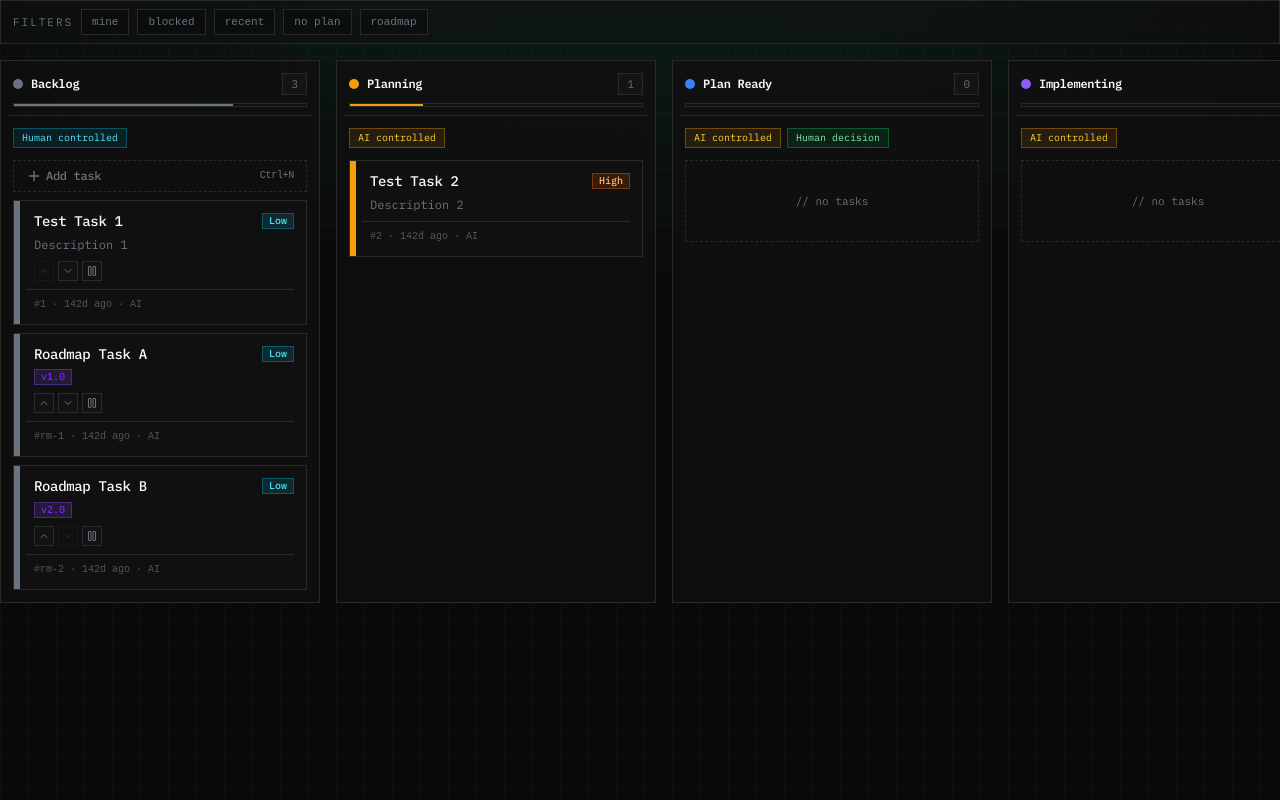
Test: Board › should show roadmap alias sub-filters when roadmap filter is active
The width and height of the screenshot is (1280, 800).
# Activate roadmap filter
Click the button "roadmap" at (394, 22), box [360,9,428,35]
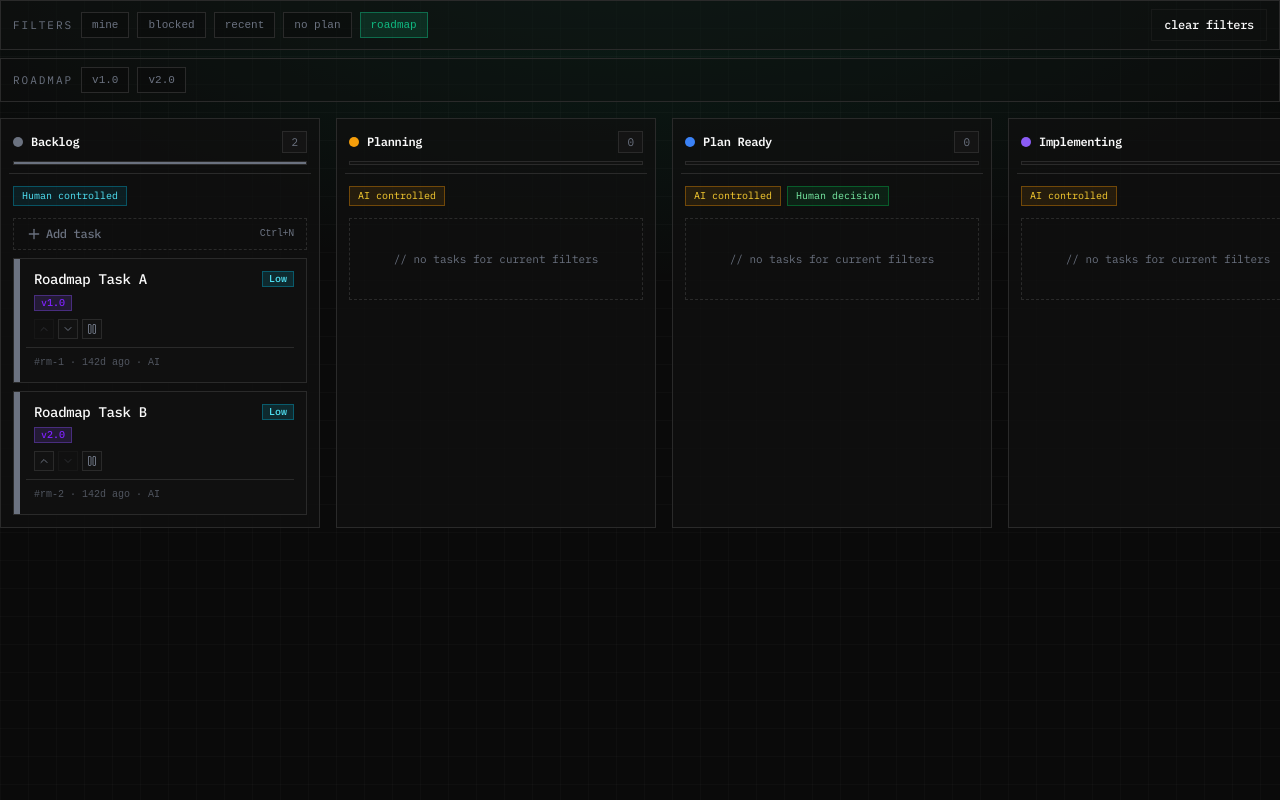
Expected: the text "Roadmap Task A" is shown, [26,271,147,288]
Expected: the button "v1.0" is shown
Expected: the button "v2.0" is shown, [138,67,186,93]
# Click v1.0 alias — only v1.0 tasks should remain
Click the button "v1.0" at (105, 80), box [81,67,130,93]
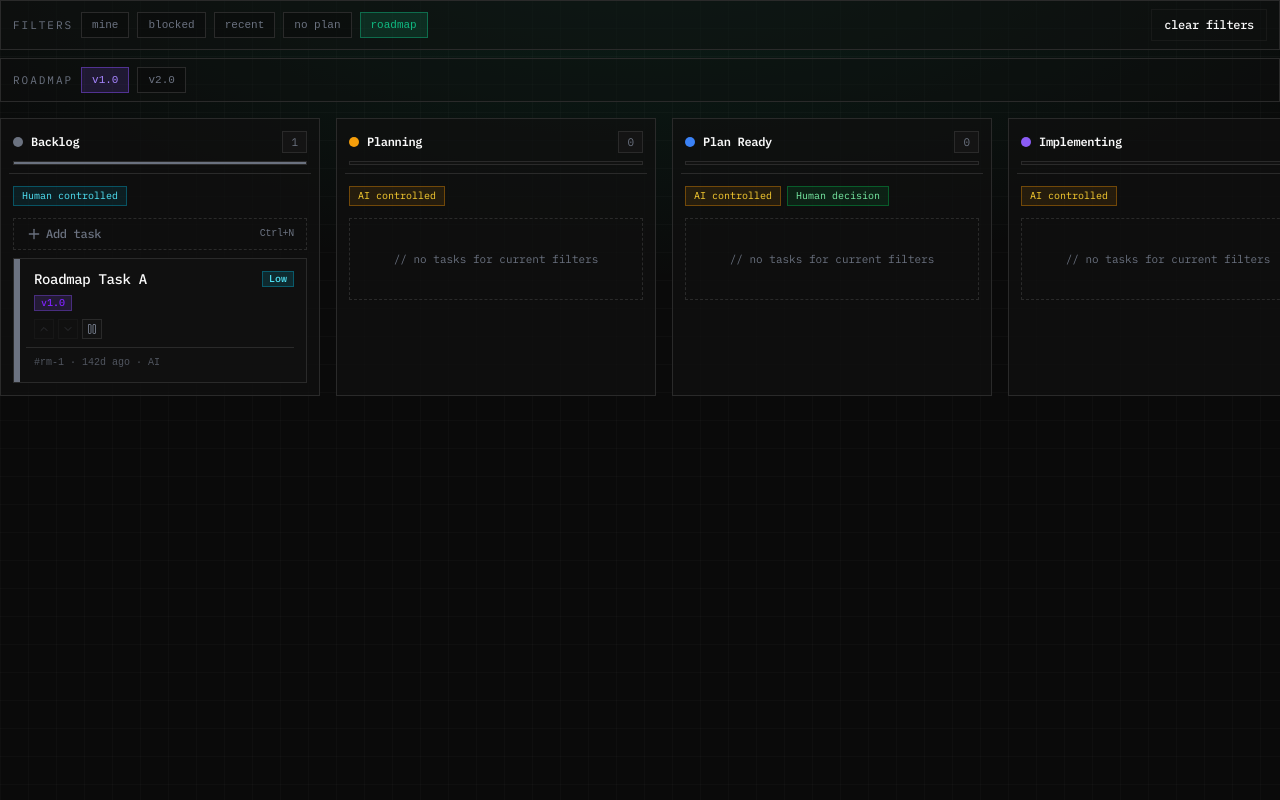
Expected: the text "Roadmap Task A" is shown, [26,271,147,288]
Expected: the text "Roadmap Task B" is gone
# Click v1.0 again to deselect — both visible again
Click the button "v1.0" at (105, 80), box [81,67,130,93]
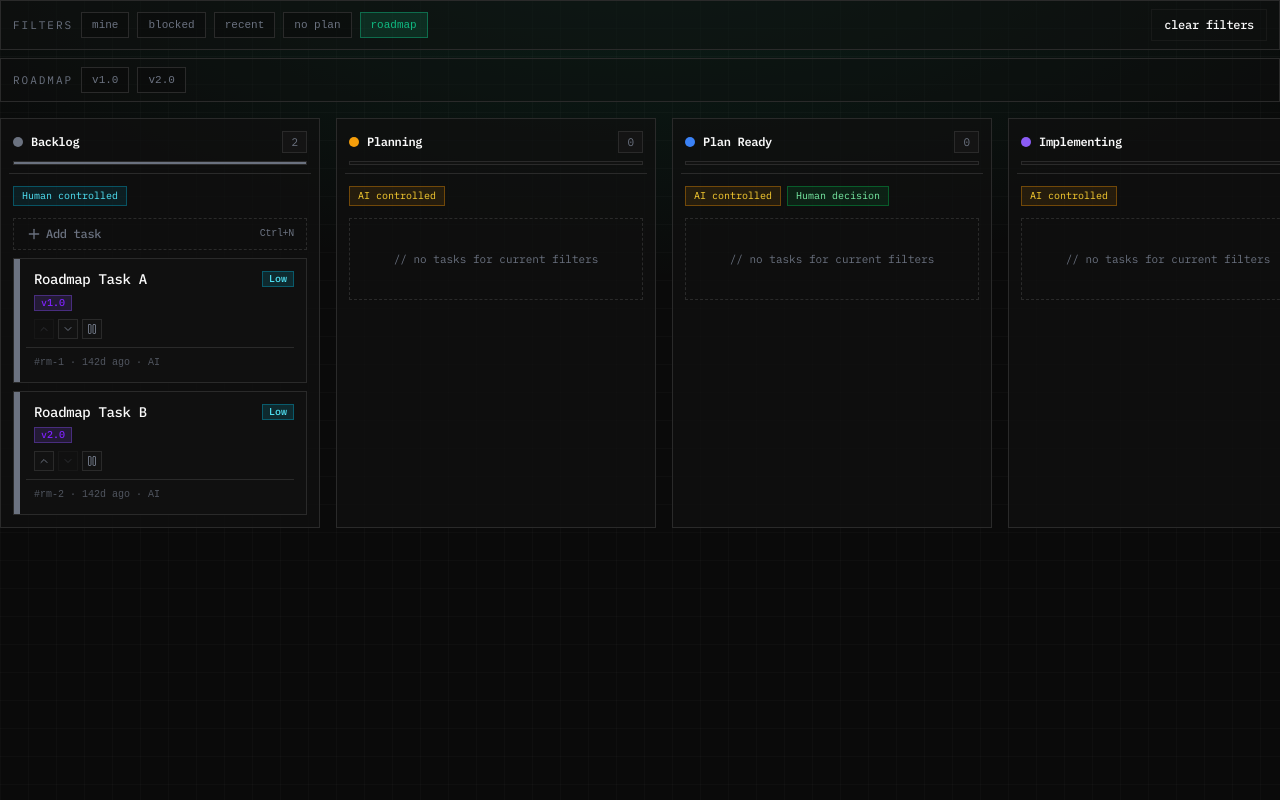
Expected: the text "Roadmap Task A" is shown, [26,271,147,288]
Expected: the text "Roadmap Task B" is shown, [26,404,147,421]
